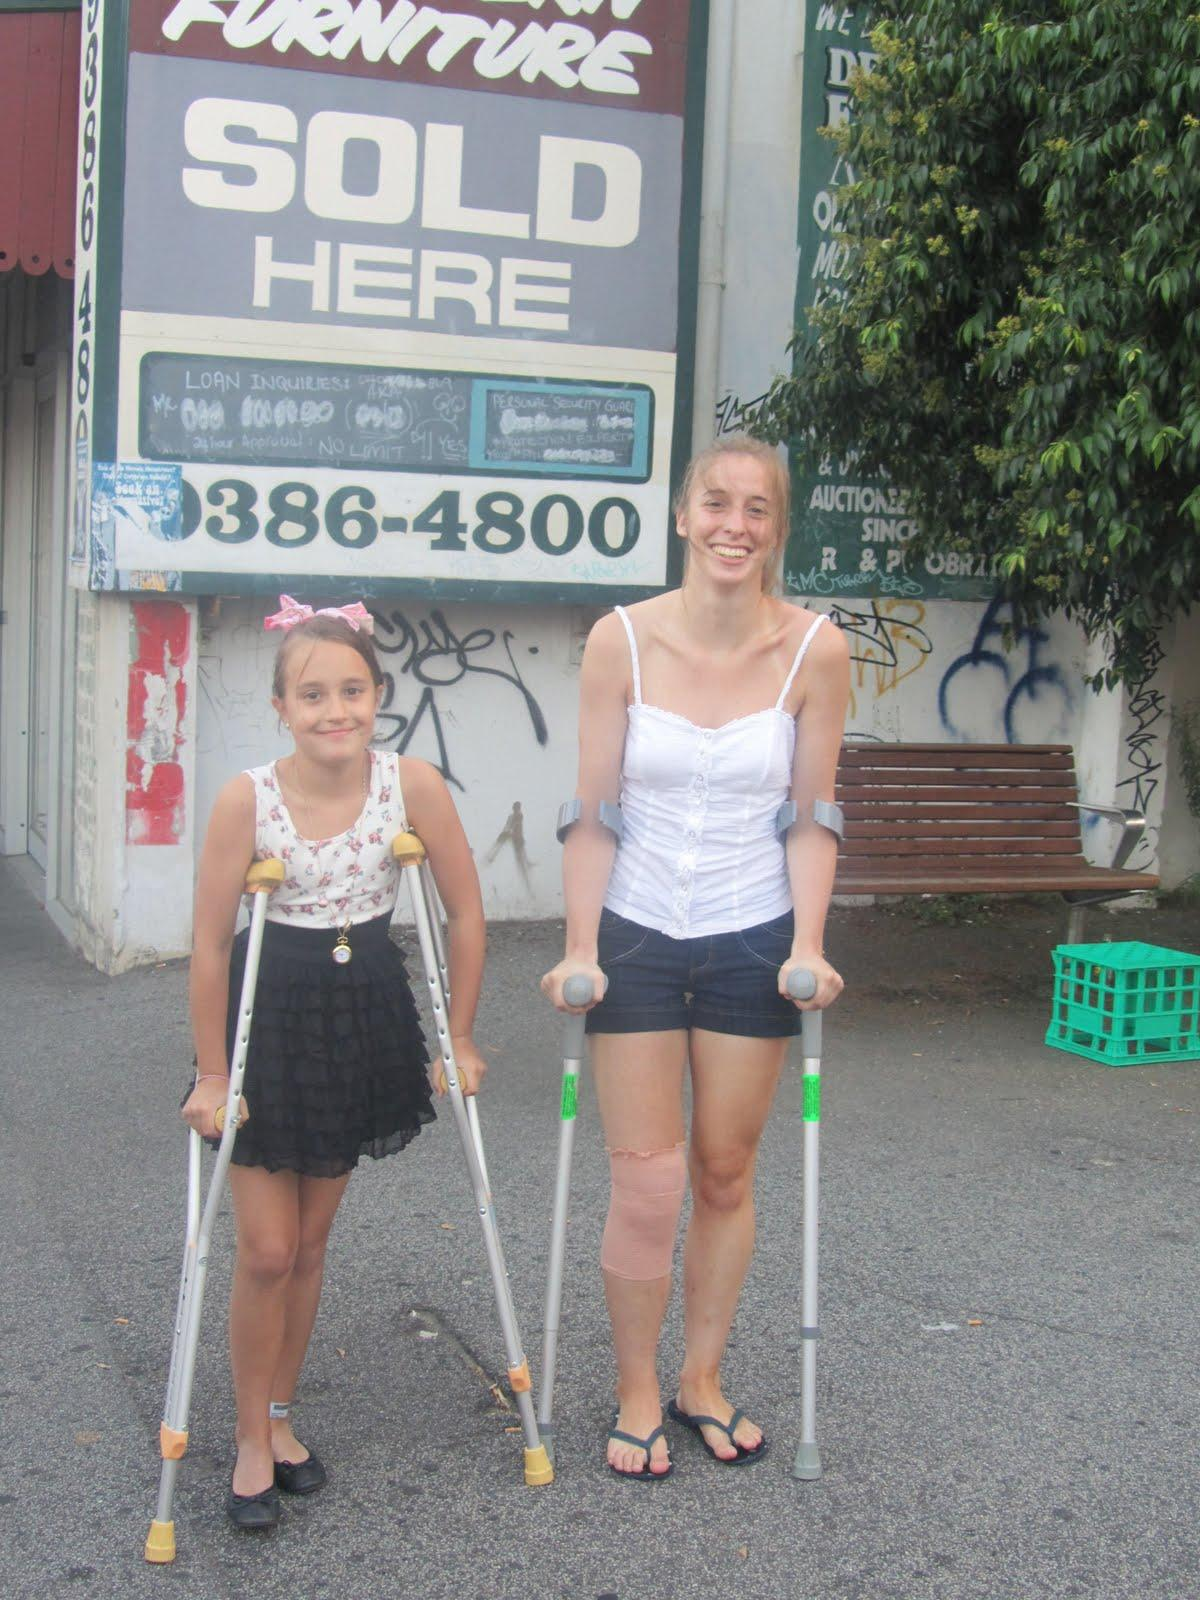crutches: (142, 593, 555, 1563), (536, 436, 850, 1482)
